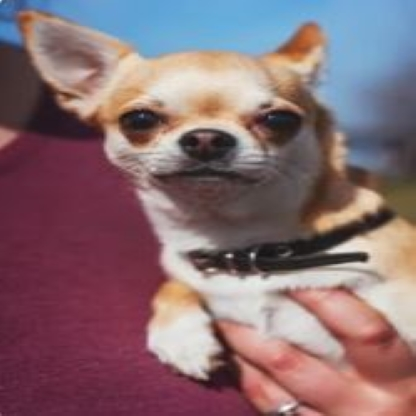chihuahua: (16, 7, 416, 382)
